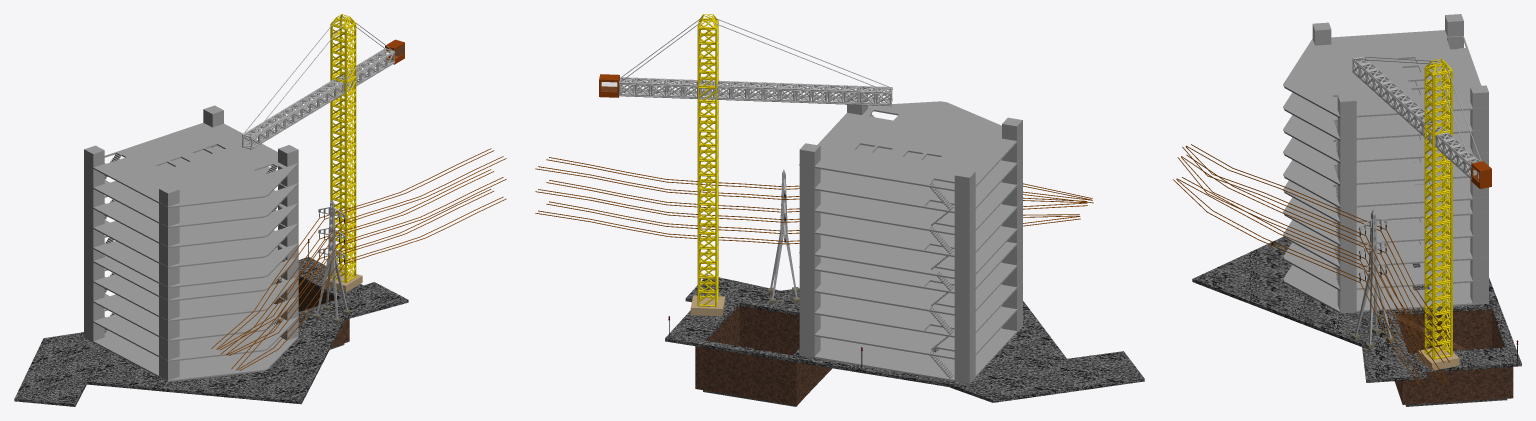
The model's file is Construction Skyscraper.glb.
3 renders of one model, left to right at view 1: azimuth 30°, elevation 25°; view 2: azimuth 150°, elevation 25°; view 3: azimuth 270°, elevation 25°, orthographic. The views are drawn at different scales.
Parts seen in each view (by area): view 1: Floors, Ground, Anchors, Crane, Wires.001, Tower, Pit; view 2: Floors, Ground, Anchors, Crane, Pit, Wires.001, Stair, Tower; view 3: Floors, Ground, Crane, Anchors, Pit, Wires.001, Tower, Ramp.
Boxes of the visible parts, x1=… form: Floors: x1=84, y1=122, x2=298, y2=381; Ground: x1=14, y1=257, x2=408, y2=406; Anchors: x1=84, y1=105, x2=298, y2=380; Crane: x1=242, y1=14, x2=404, y2=292; Wires.001: x1=211, y1=148, x2=506, y2=370; Tower: x1=316, y1=199, x2=347, y2=319; Pit: x1=274, y1=278, x2=349, y2=347; Floors: x1=799, y1=101, x2=1022, y2=383; Ground: x1=665, y1=274, x2=1144, y2=402; Anchors: x1=799, y1=93, x2=1022, y2=382; Crane: x1=599, y1=14, x2=892, y2=316; Pit: x1=695, y1=305, x2=832, y2=405; Wires.001: x1=535, y1=157, x2=1093, y2=244; Stair: x1=924, y1=178, x2=954, y2=379; Tower: x1=770, y1=170, x2=797, y2=299; Floors: x1=1283, y1=30, x2=1488, y2=313; Ground: x1=1192, y1=236, x2=1521, y2=382; Crane: x1=1352, y1=56, x2=1491, y2=370; Anchors: x1=1312, y1=14, x2=1488, y2=311; Pit: x1=1394, y1=309, x2=1513, y2=404; Wires.001: x1=1173, y1=144, x2=1450, y2=385; Tower: x1=1355, y1=209, x2=1391, y2=344; Ramp: x1=1395, y1=313, x2=1467, y2=353.
Size of the model in its own units: 124 by 71.98 by 64.26.
18 materials, 2 textured.
